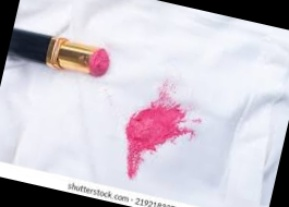lipstick: (114, 89, 193, 186)
